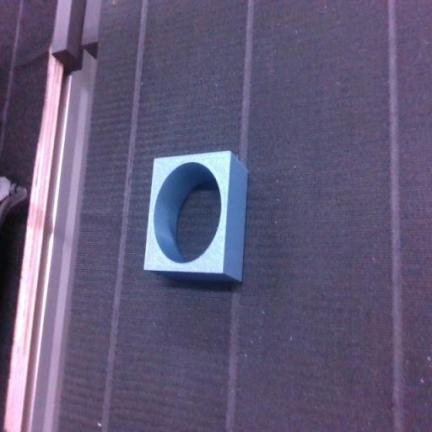hole: (145, 152, 247, 280)
